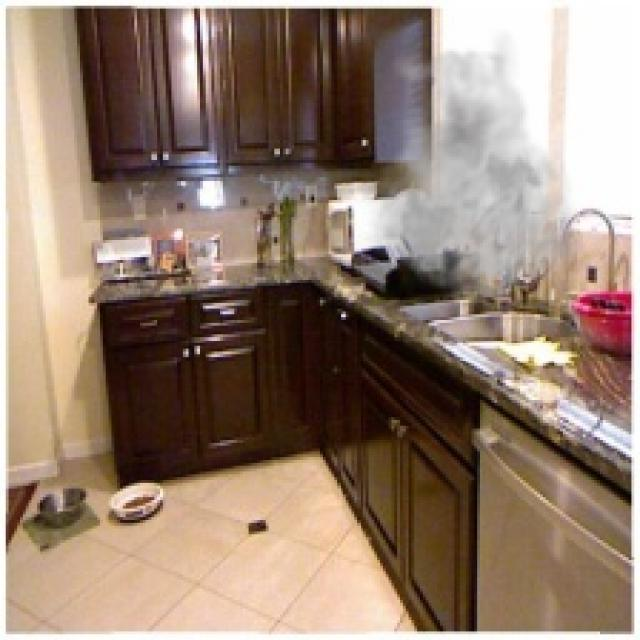Smoke: (351, 28, 586, 306)
